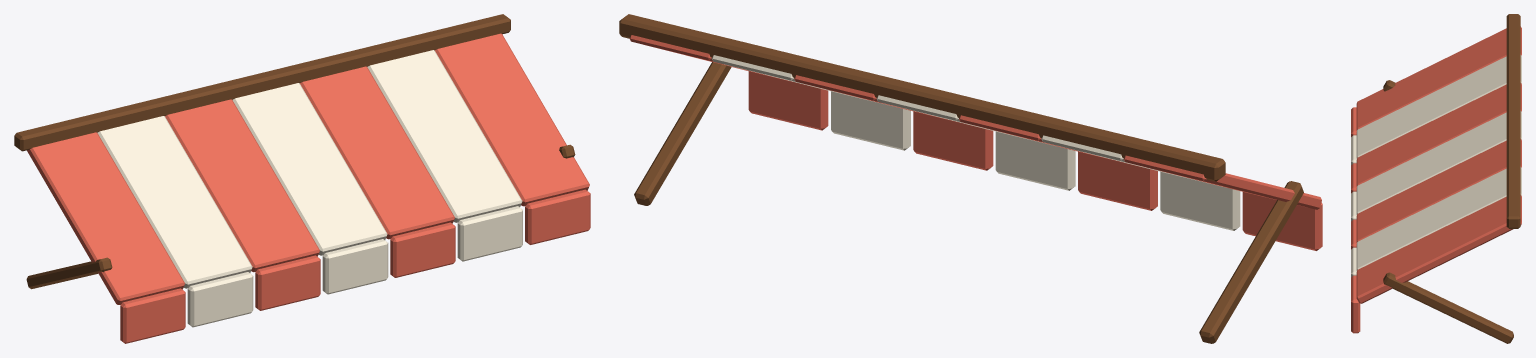
The model's file is awning_module.glb.
3 renders of one model, left to right at view 1: azimuth 30°, elevation 25°; view 2: azimuth 150°, elevation 25°; view 3: azimuth 270°, elevation 25°, orthographic. The views are drawn at different scales.
Parts seen in each view (by area): view 1: awning_module; view 2: awning_module; view 3: awning_module.
Boxes of the visible parts, <box> form: awning_module: <box>14,14,590,343</box>; awning_module: <box>619,14,1322,343</box>; awning_module: <box>1351,14,1521,343</box>.
Size of the model in its own units: 2.08 by 0.6229 by 0.7357.
